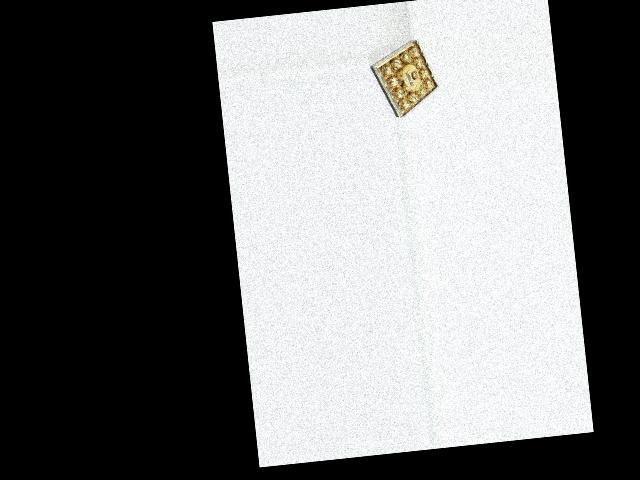chocolate: (366, 36, 442, 121)
